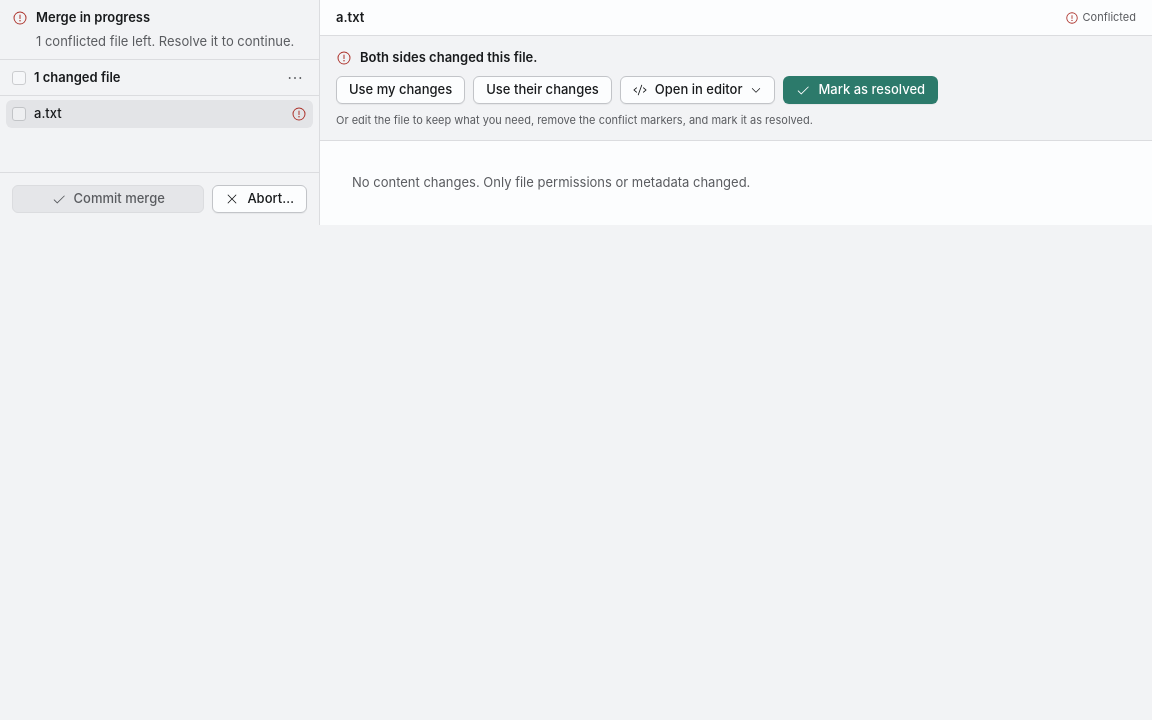
Test: conflict resolution › aborts only after confirming
Click the button "Abort…": x=260, y=198 [212, 184, 307, 212]
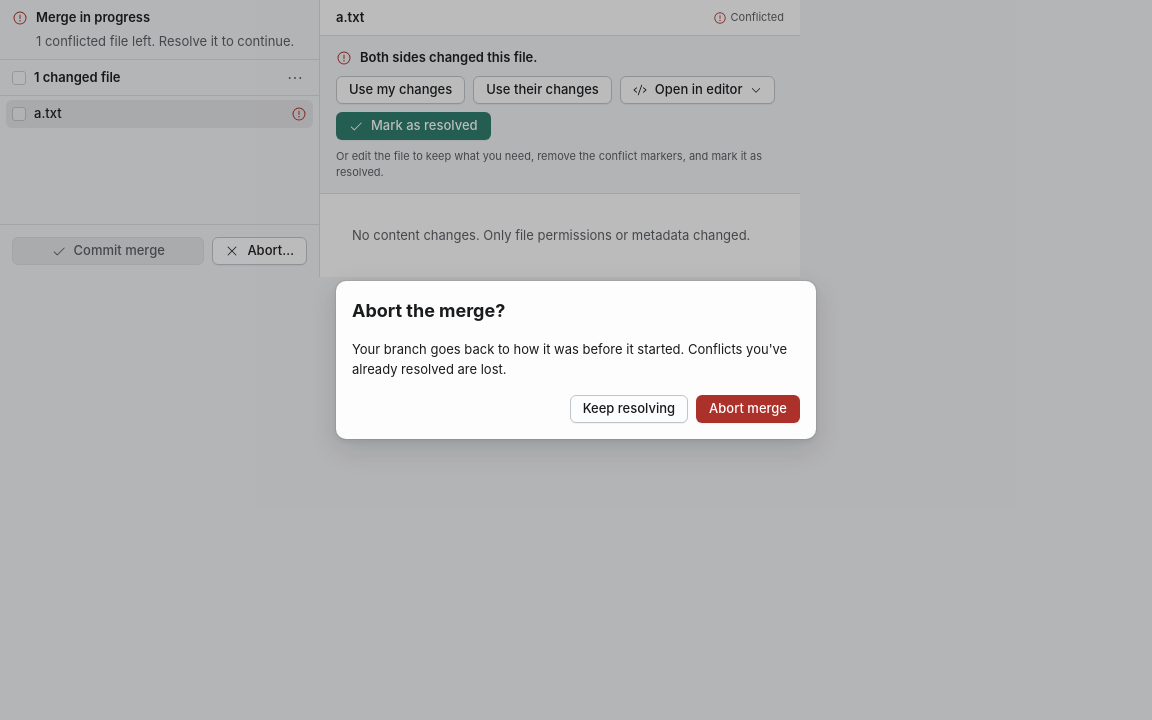
Click the button "Abort merge": x=748, y=409 [696, 395, 800, 423]
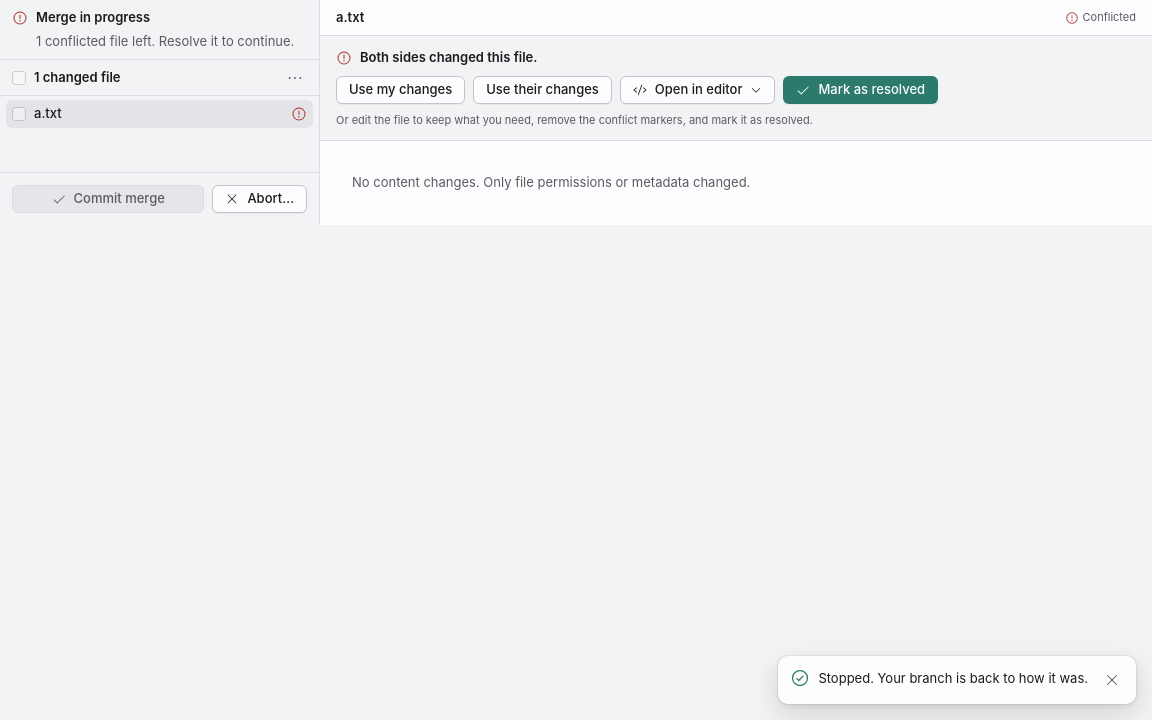
Now the text "Stopped. Your branch is back to how it was." is shown, box [818, 669, 1088, 688]
